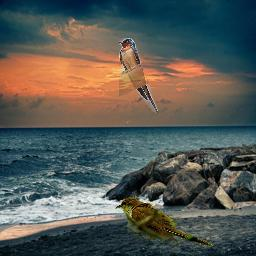Cuckoo: (115, 196, 214, 247)
Swallow: (119, 38, 158, 113)
